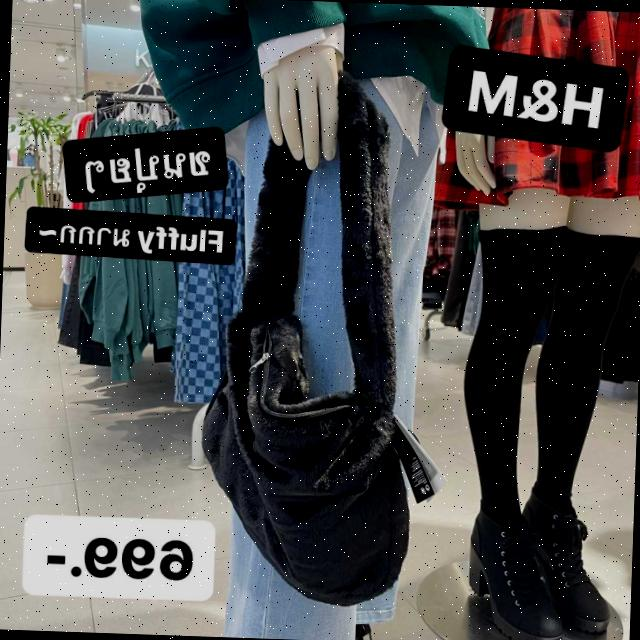handbag: (187, 286, 459, 625)
